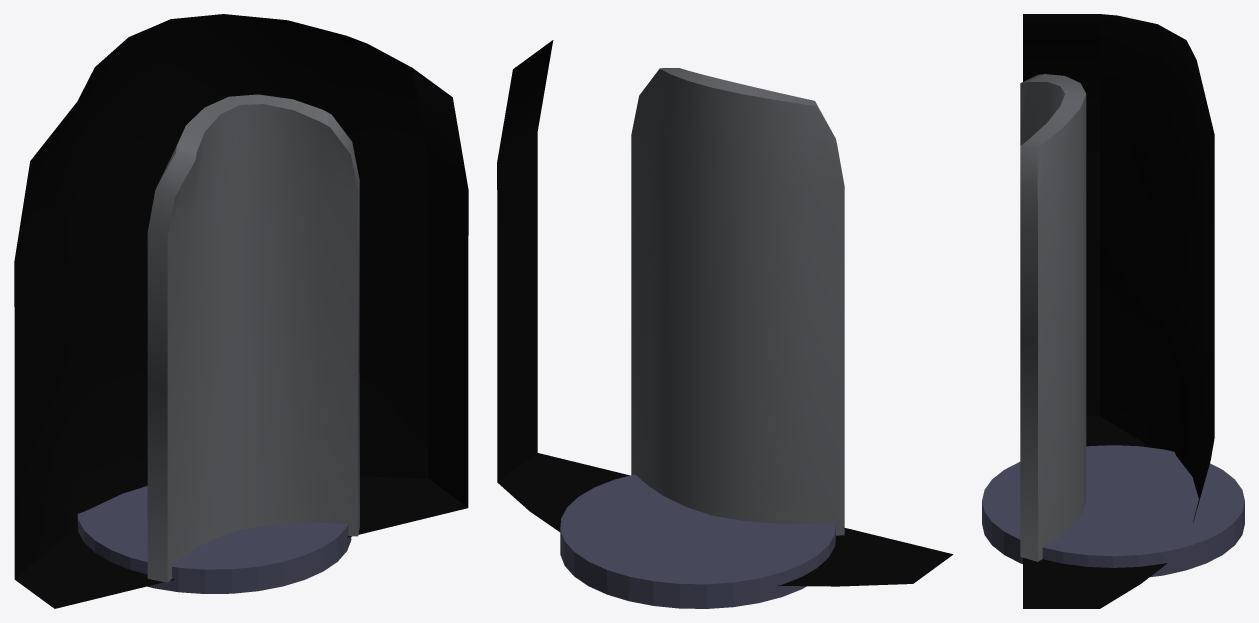
File: SecretDoor_and_pressurePad.fbx
The picture shows the model from 3 angles, left to right: view 1: azimuth 30°, elevation 25°; view 2: azimuth 150°, elevation 25°; view 3: azimuth 270°, elevation 25°; orthographic projection. The views are drawn at different scales.
Visible parts, largest first — view 1: SecretDoorBlackVoid, SecretDoor, SecretDoorPressurePlate; view 2: SecretDoor, SecretDoorBlackVoid, SecretDoorPressurePlate; view 3: SecretDoorBlackVoid, SecretDoor, SecretDoorPressurePlate.
Part boxes in pixels (<box>): SecretDoorBlackVoid: <box>14,14,468,608</box>; SecretDoor: <box>147,94,359,582</box>; SecretDoorPressurePlate: <box>77,486,351,593</box>; SecretDoor: <box>631,68,844,535</box>; SecretDoorBlackVoid: <box>497,40,953,586</box>; SecretDoorPressurePlate: <box>560,474,835,608</box>; SecretDoorBlackVoid: <box>1023,14,1214,608</box>; SecretDoor: <box>1020,74,1086,561</box>; SecretDoorPressurePlate: <box>982,445,1244,577</box>.
Bounding box in the file's own units: 108 × 121 × 62.07.
